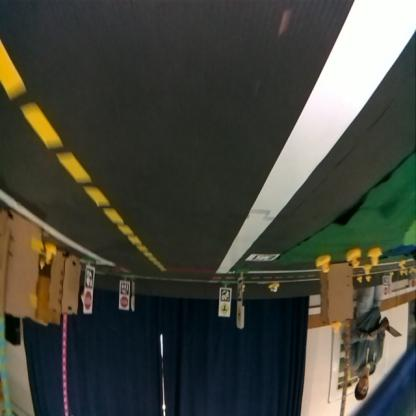Duckie: (346, 249, 361, 268), (315, 256, 331, 270), (44, 244, 56, 260), (369, 249, 380, 266), (330, 323, 340, 335), (363, 266, 370, 276), (398, 262, 404, 270), (357, 276, 362, 284), (271, 285, 274, 293)
Intersection sign: (219, 303, 228, 318)
QR code: (247, 255, 278, 263), (85, 270, 93, 288), (119, 282, 129, 296), (220, 289, 228, 299)
Stop sign: (82, 292, 92, 314), (119, 297, 127, 308)
